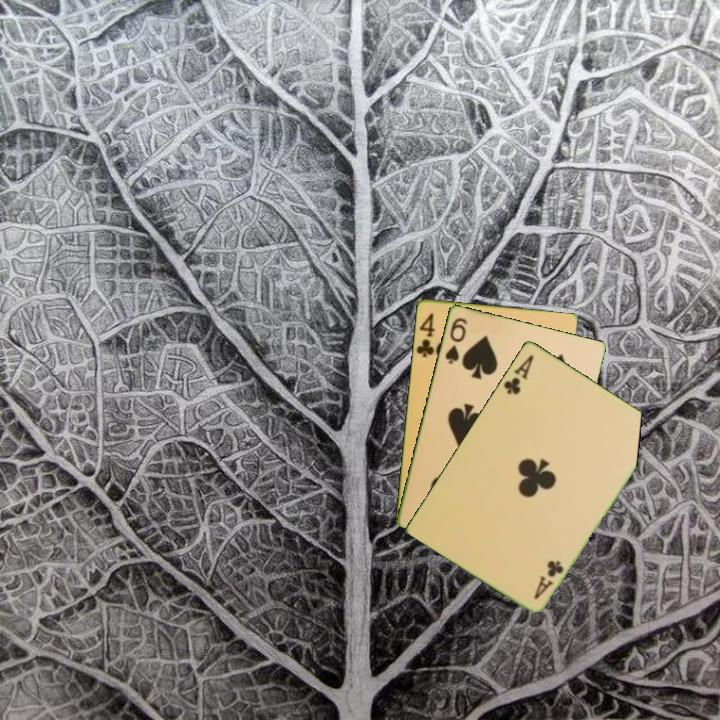4c: (413, 309, 438, 360)
6s: (441, 314, 470, 366)
Ac: (530, 556, 567, 602), (500, 351, 536, 397)
